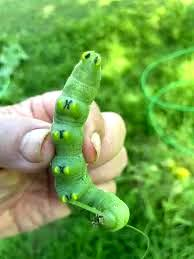Caterpillar: (42, 41, 136, 236)
